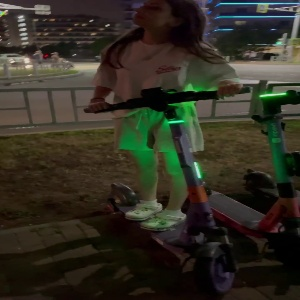human on a scooter: (84, 1, 251, 293)
